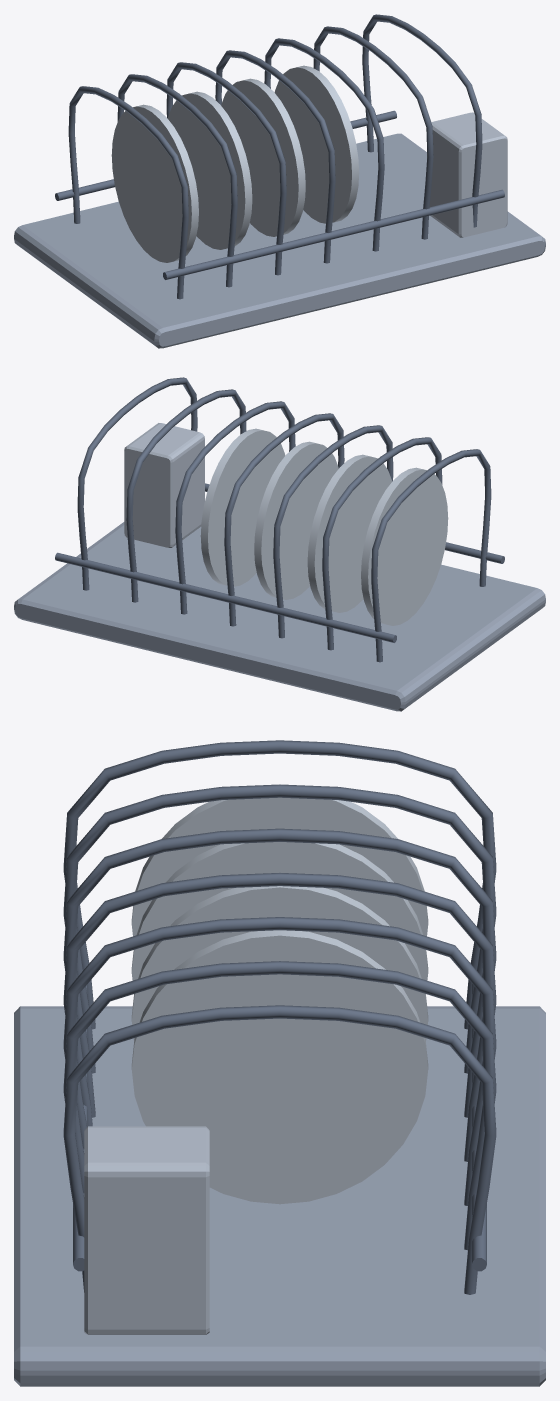
Rendered from dish-rack-lite.glb.
3 views of the same model, one above another, from view 1: azimuth 30°, elevation 25°; view 2: azimuth 150°, elevation 25°; view 3: azimuth 270°, elevation 25° (orthographic). The views are drawn at different scales.
Parts seen in each view (by area): view 1: body, light, dark, soft; view 2: body, light, dark, soft; view 3: body, light, dark, soft.
Part boxes in pixels (x1,y1,x2,y2): body: (14,133,545,348); light: (111,65,359,262); dark: (55,14,504,299); soft: (427,112,507,237); body: (14,522,545,711); light: (200,428,448,625); dark: (55,377,504,662); soft: (124,423,204,547); body: (14,1006,545,1386); light: (131,797,428,1204); dark: (63,740,496,1294); soft: (84,1126,209,1334).
Size of the model in its own units: 0.44 by 0.1958 by 0.28.
